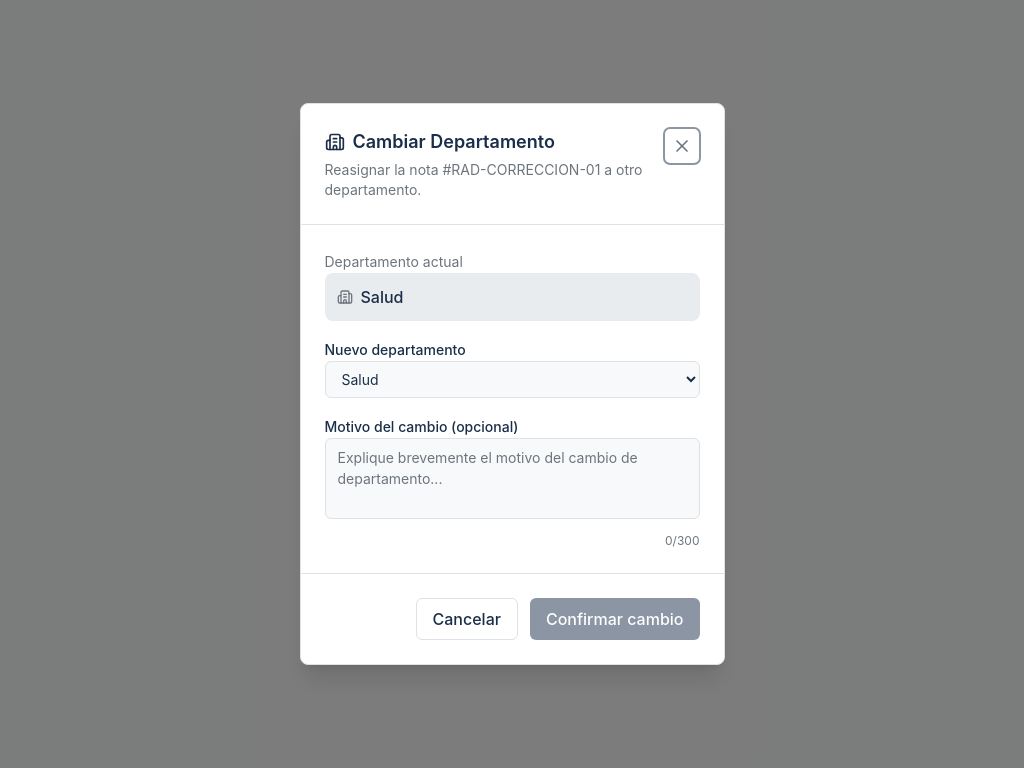
QA Findings: Reenviar a Alcaldía & Seguimiento IT & Cambiar Departamento › CambiarDepartamentoModal retains modal and displays error message if API fails
The image size is (1024, 768).
// Select another department
Step 1. Select "Educación" in the dropdown labelled "Nuevo departamento" → x=512, y=380, box [324,361,700,398]
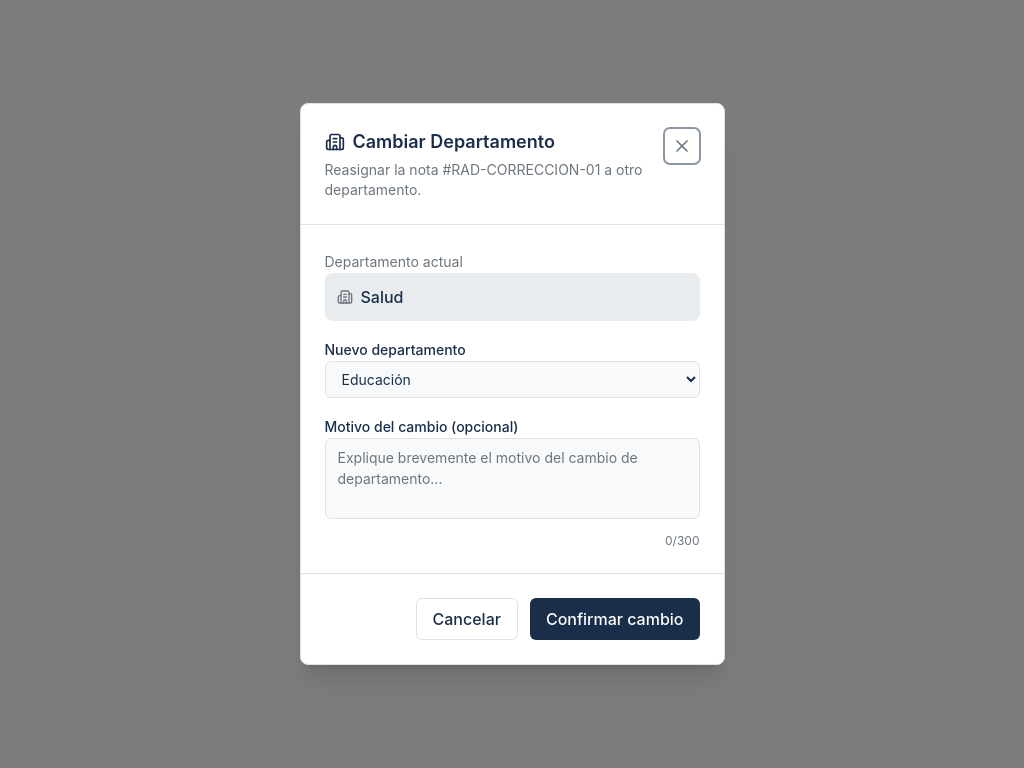
// Click confirm
Step 2. Click the button "Confirmar cambio" → x=615, y=619, box [530,598,700,640]
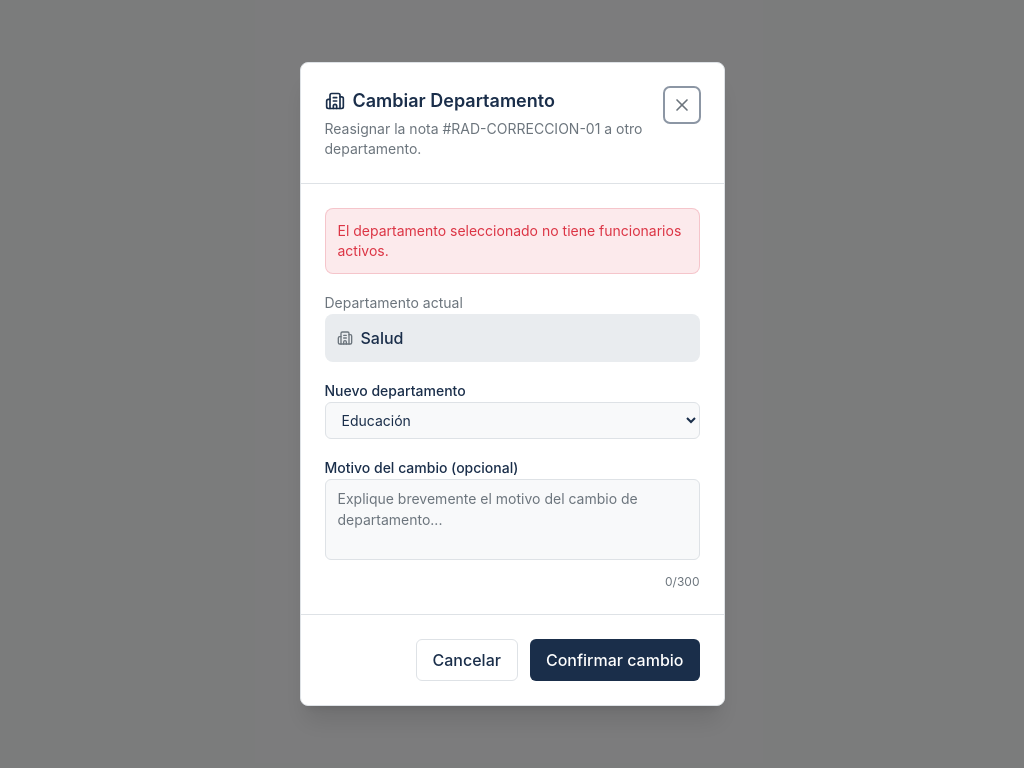
Expected: the message reads "El departamento seleccionado no tiene funcionarios activos.", [338,222,681,259]
